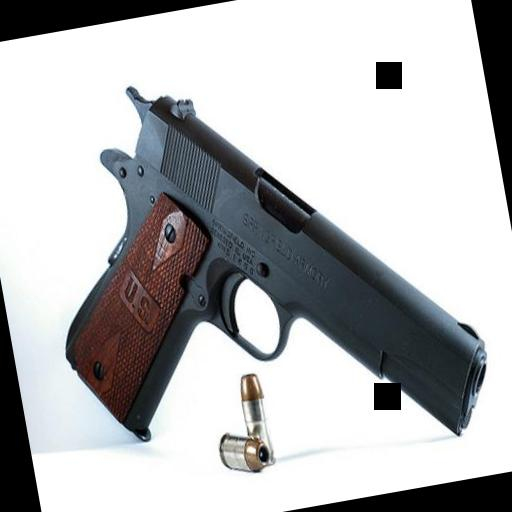Handgun: (16, 24, 498, 504)
